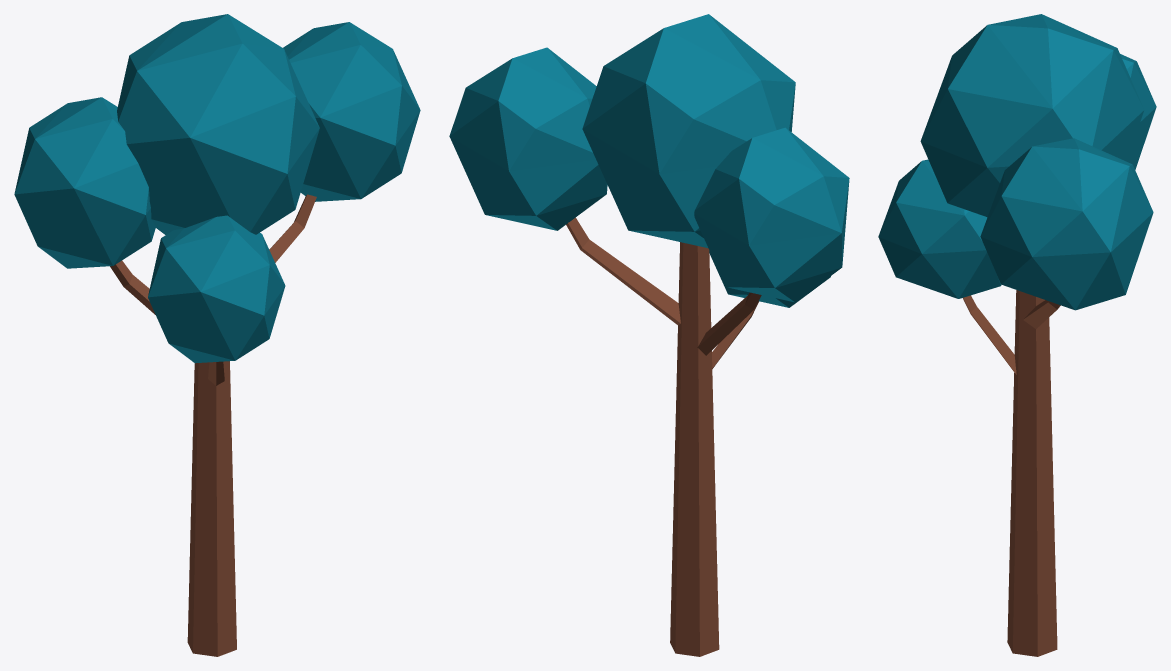
Rendered from Tree_35_summer_blue_vc.fbx.
3 views of the same model, side by side, from view 1: azimuth 30°, elevation 25°; view 2: azimuth 150°, elevation 25°; view 3: azimuth 270°, elevation 25° (orthographic).
Visible parts, largest first — view 1: Tree_35_summer_blue_vc; view 2: Tree_35_summer_blue_vc; view 3: Tree_35_summer_blue_vc.
Boxes of the visible parts, x1,y1,x2,y2 form: Tree_35_summer_blue_vc: (14, 14, 420, 656); Tree_35_summer_blue_vc: (449, 14, 849, 656); Tree_35_summer_blue_vc: (878, 14, 1156, 656).
Bounding box in the file's own units: 423 × 658 × 264.
